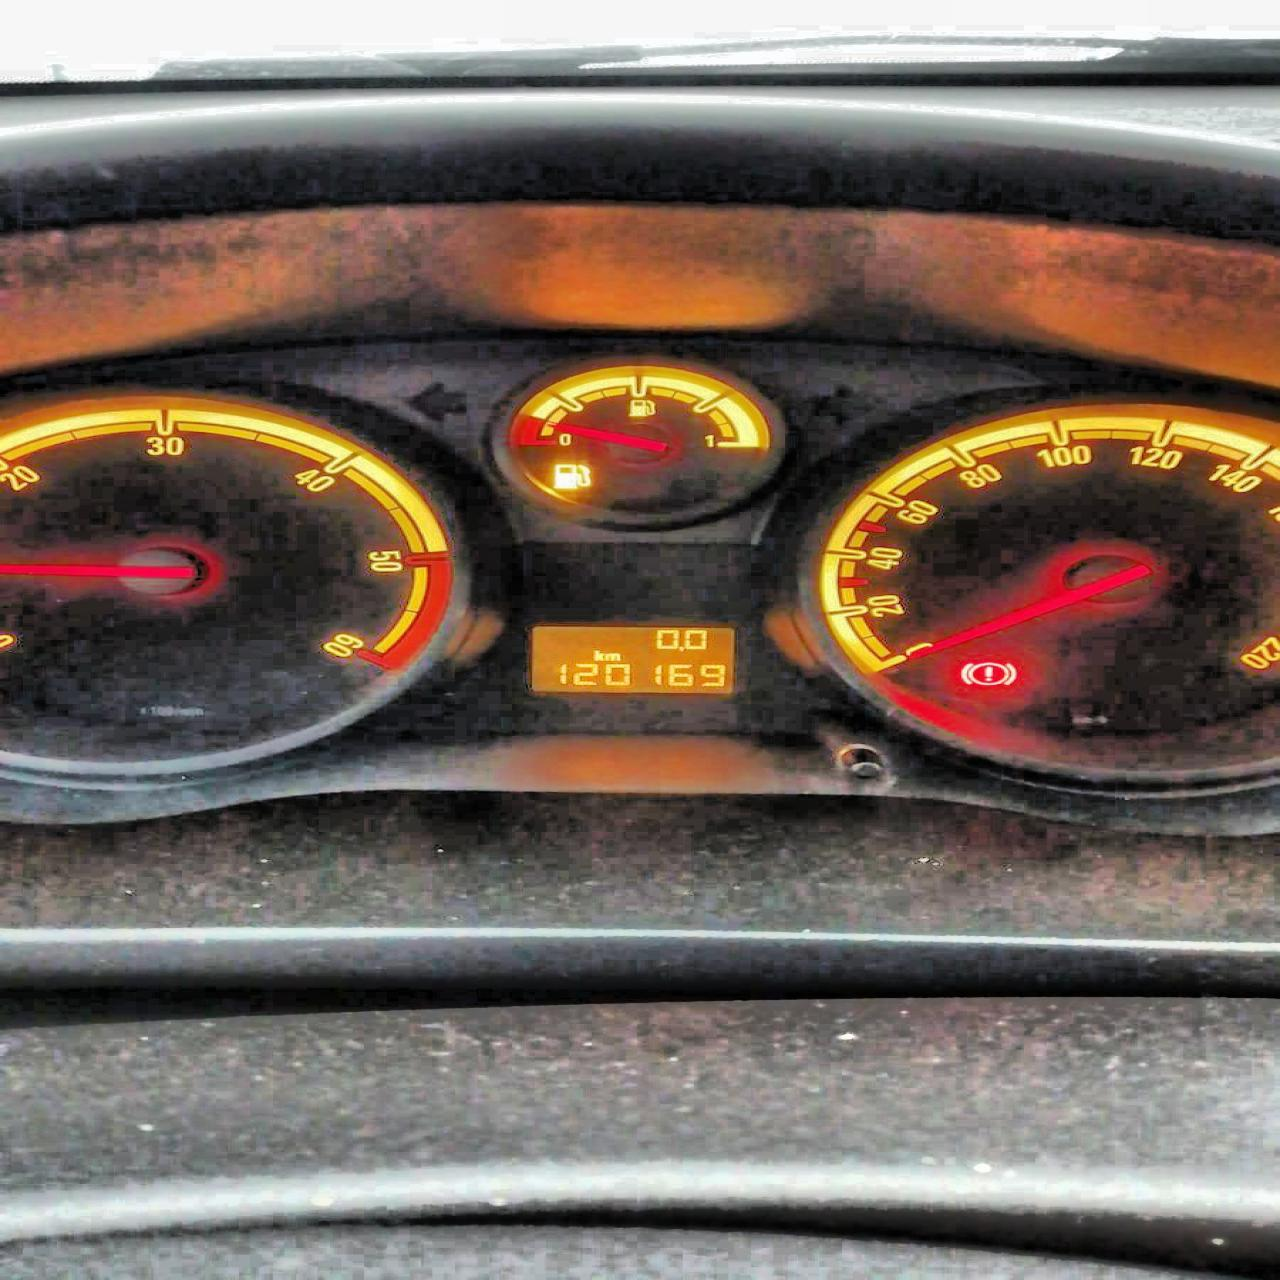-: (678, 645, 685, 652)
0: (602, 663, 629, 685), (682, 629, 706, 649), (654, 629, 679, 648)
1: (558, 662, 567, 683), (653, 663, 661, 685)
2: (571, 662, 598, 685)
6: (666, 663, 693, 686)
9: (699, 663, 723, 687)
X: (602, 652, 620, 660), (592, 649, 604, 660)
odometer: (526, 622, 737, 695)
